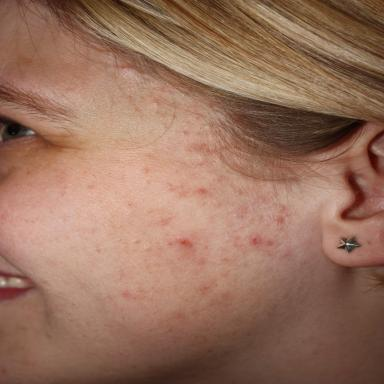acne: (250, 237, 261, 245), (178, 239, 190, 245), (196, 188, 207, 194), (277, 217, 283, 223)
